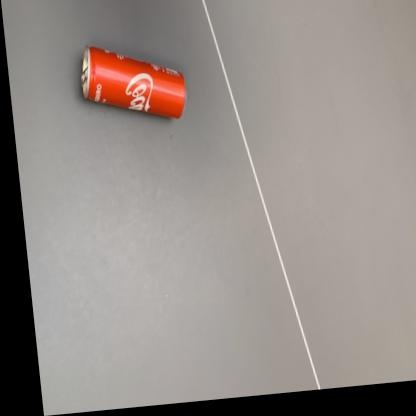trash: (81, 47, 185, 117)
